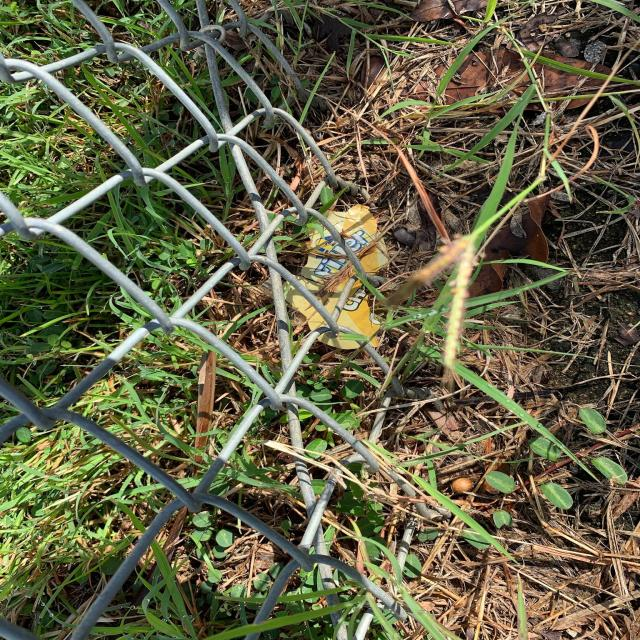litter: (280, 204, 388, 350)
